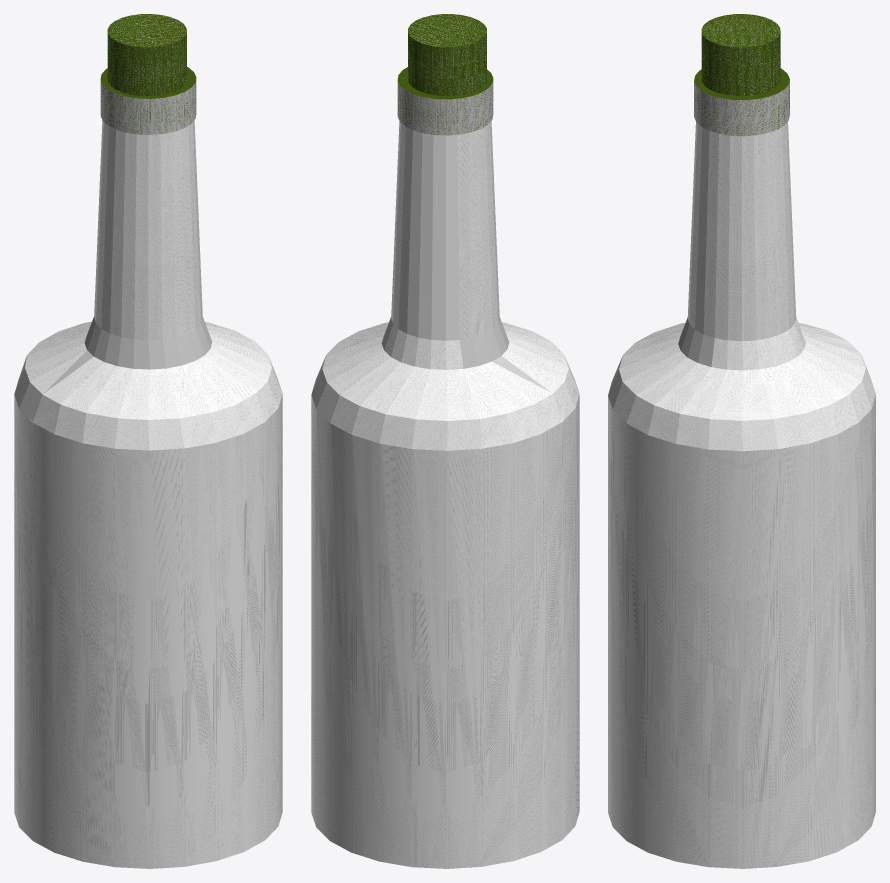
3 renders of one model, left to right at view 1: azimuth 30°, elevation 25°; view 2: azimuth 150°, elevation 25°; view 3: azimuth 270°, elevation 25°, orthographic.
Visible parts, largest first — view 1: mesh1_mesh1-geometry, mesh2_mesh2-geometry; view 2: mesh1_mesh1-geometry, mesh2_mesh2-geometry; view 3: mesh1_mesh1-geometry, mesh2_mesh2-geometry.
Boxes of the visible parts, x1,y1,x2,y2 form: mesh1_mesh1-geometry: (14,120,282,868); mesh2_mesh2-geometry: (100,14,196,134); mesh1_mesh1-geometry: (311,121,579,868); mesh2_mesh2-geometry: (397,14,493,135); mesh1_mesh1-geometry: (608,122,875,868); mesh2_mesh2-geometry: (694,14,789,136).
Bounding box in the file's own units: 0.2847 × 0.9154 × 0.2847.
